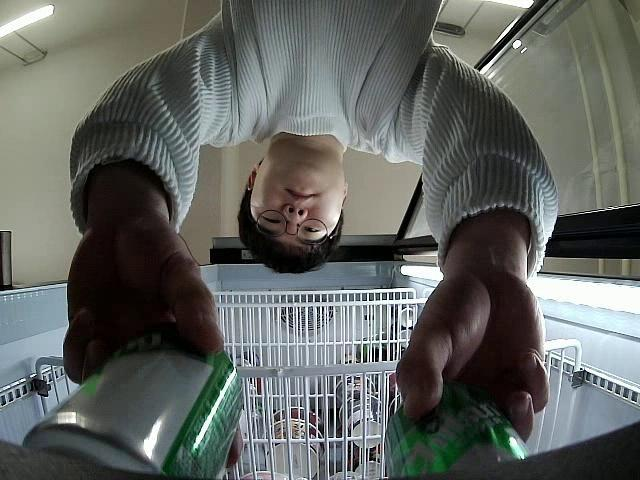12_chilsungCider: (22, 333, 244, 480), (384, 385, 530, 480)
